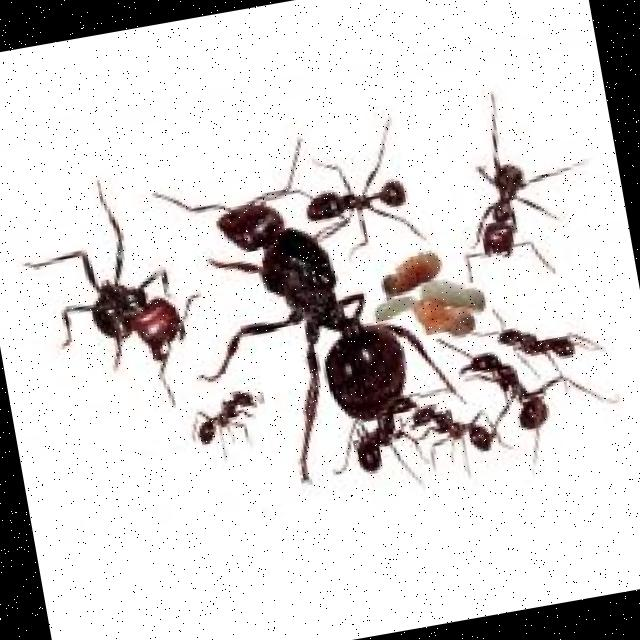Egg: (376, 248, 446, 296), (412, 292, 474, 346), (421, 274, 486, 320), (372, 292, 417, 321)
Minor: (435, 308, 627, 481), (294, 132, 426, 256), (470, 286, 601, 382), (406, 392, 512, 464), (186, 380, 272, 464)
Queen: (150, 114, 481, 497)
Soldier: (12, 166, 217, 426), (435, 76, 602, 282)
